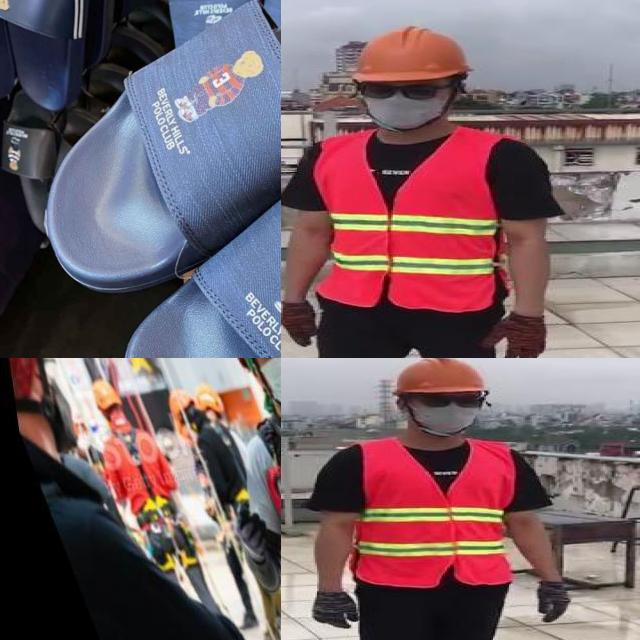Sandals: (1, 0, 281, 358)
face_mask: (355, 78, 449, 130), (411, 389, 488, 432)
glasses: (352, 76, 446, 102), (410, 390, 490, 412)
hand_glove: (483, 315, 549, 358), (310, 590, 360, 629), (281, 303, 318, 346), (538, 581, 572, 623)
head_helmet: (348, 27, 472, 82), (384, 358, 493, 396)
person: (281, 26, 557, 358), (298, 358, 579, 640)
vest: (315, 129, 498, 311), (351, 437, 514, 587)
